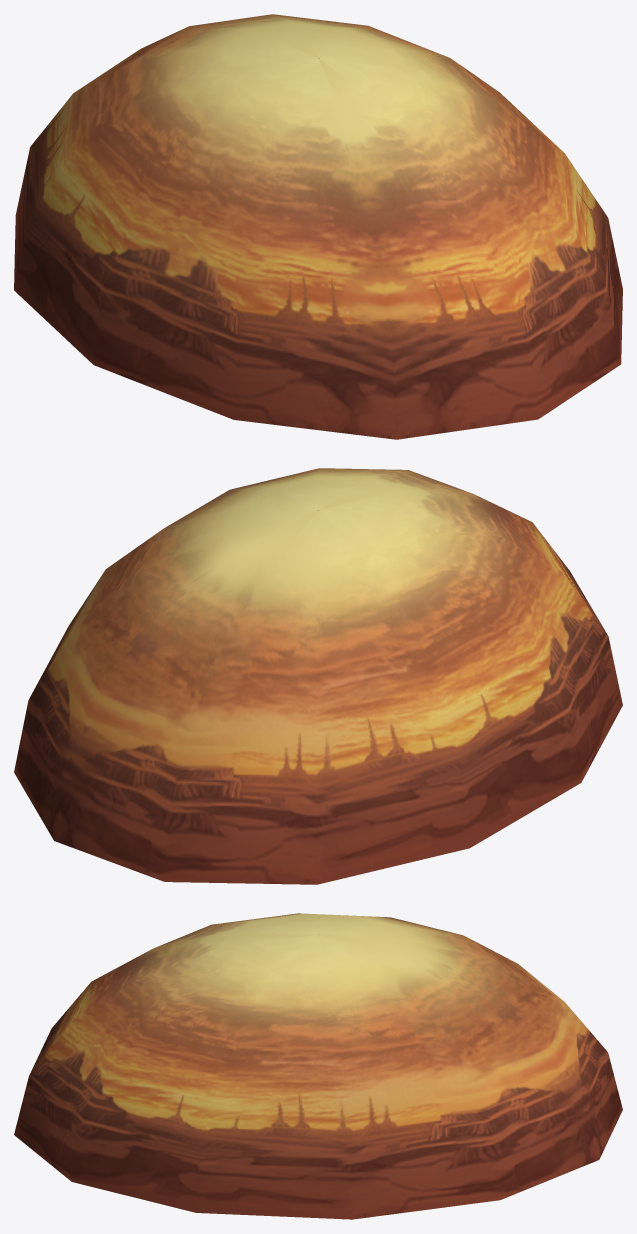
File: env_geo_battleground_02_pre.glb
The picture shows the model from 3 angles, top to bottom: view 1: azimuth 30°, elevation 25°; view 2: azimuth 150°, elevation 25°; view 3: azimuth 270°, elevation 25°; orthographic projection. The views are drawn at different scales.
Parts seen in each view (by area): view 1: skybox_01_mesh (1); view 2: skybox_01_mesh (1); view 3: skybox_01_mesh (1).
Boxes of the visible parts, x1,y1,x2,y2 form: skybox_01_mesh (1): (14, 14, 622, 439); skybox_01_mesh (1): (14, 468, 622, 884); skybox_01_mesh (1): (14, 913, 622, 1219).
Size of the model in its own units: 1562 by 703 by 2068.
Materials: 21 (21 with a texture image).
